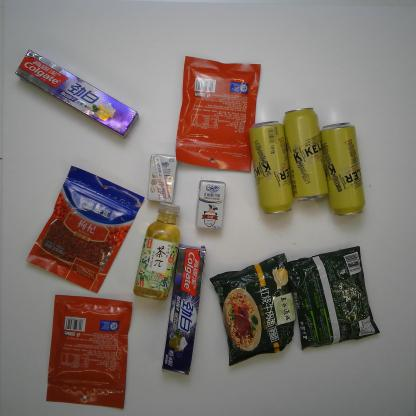Alcohol: (248, 120, 295, 218), (320, 121, 367, 218), (283, 103, 329, 202)
Dried Fruit: (25, 164, 144, 296), (173, 53, 263, 173), (43, 292, 133, 410)
Drink: (132, 198, 180, 302)
Instant Noodles: (209, 253, 301, 369), (285, 244, 382, 354)
Milk: (146, 152, 180, 203), (195, 179, 227, 230)
Personal Hygiene: (14, 48, 139, 140), (160, 244, 208, 377)
